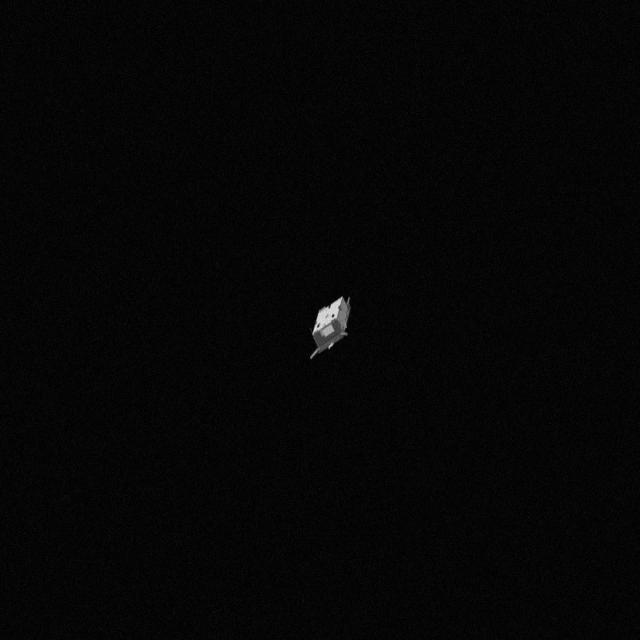medium_debris: (304, 290, 368, 368)
